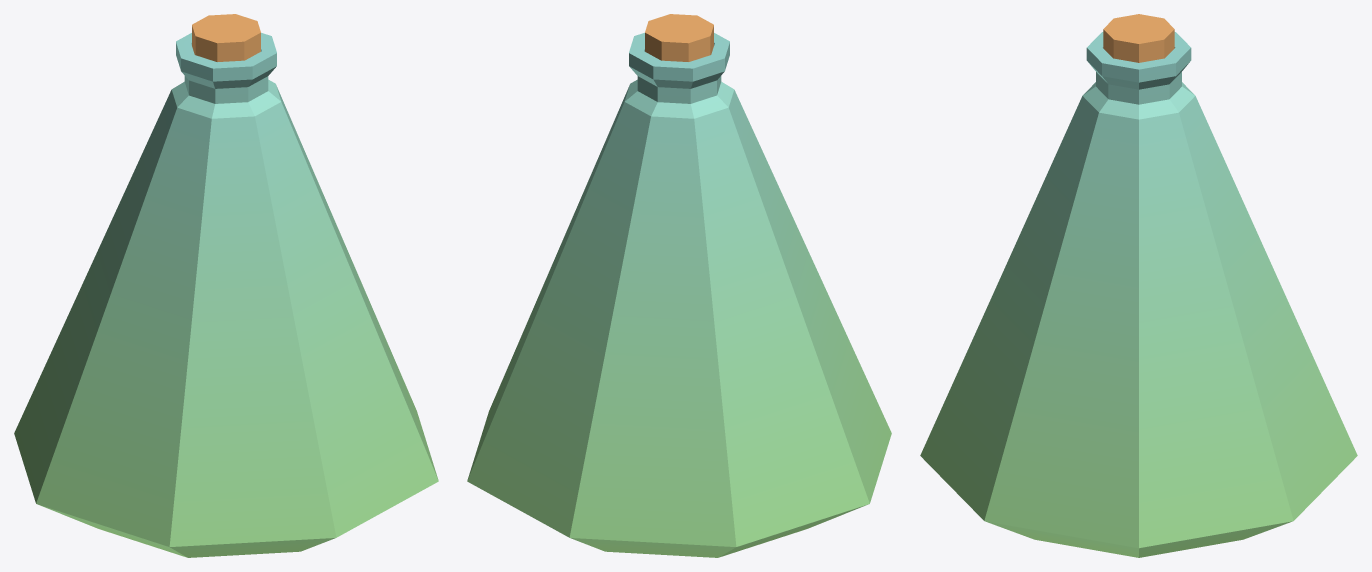
The model's file is Assets.fbx_FlaskPyramid.fbx.
3 views of the same model, side by side, from view 1: azimuth 30°, elevation 25°; view 2: azimuth 150°, elevation 25°; view 3: azimuth 270°, elevation 25° (orthographic).
Parts seen in each view (by area): view 1: FlaskPyramid; view 2: FlaskPyramid; view 3: FlaskPyramid.
Boxes of the visible parts, <box> form: FlaskPyramid: <box>14,14,438,557</box>; FlaskPyramid: <box>467,14,891,557</box>; FlaskPyramid: <box>920,14,1357,557</box>.
Bounding box in the file's own units: 15.57 × 18.32 × 15.57.
